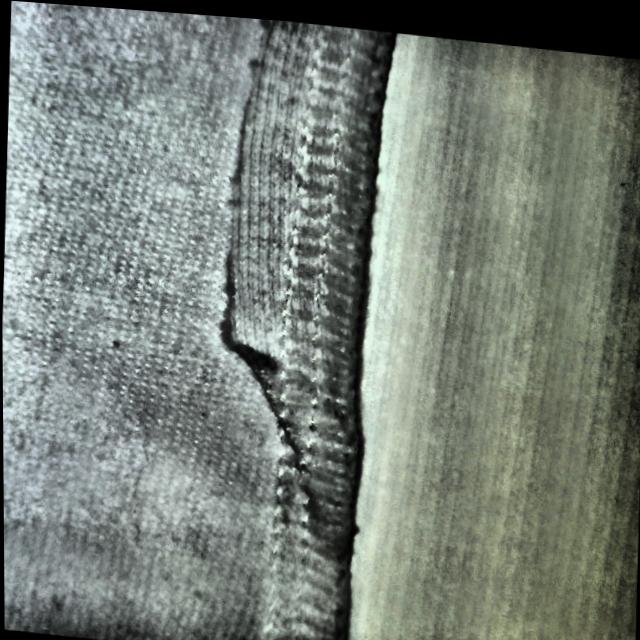seam: (191, 11, 395, 421)
